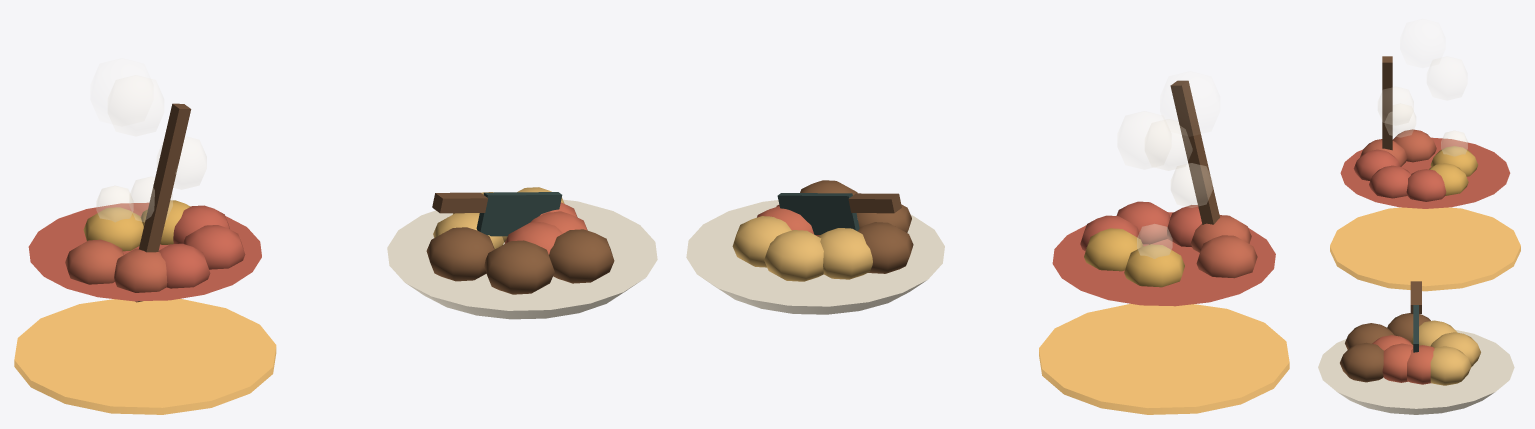
File: bakedApples-cooking.glb
The picture shows the model from 3 angles, left to right: view 1: azimuth 30°, elevation 25°; view 2: azimuth 150°, elevation 25°; view 3: azimuth 270°, elevation 25°; orthographic projection. The views are drawn at different scales.
Parts seen in each view (by area): view 1: Heat, KitchenFinishedDish, Ingredients, Liquid, Steam, Knife, Spoon; view 2: Heat, KitchenFinishedDish, Ingredients, Liquid, Steam, Knife, Spoon; view 3: KitchenFinishedDish, Heat, Ingredients, Liquid, Steam, Spoon, Knife.
Boxes of the visible parts, left/top/right/bottom form: Heat: left=14, top=298, right=276, bottom=414; KitchenFinishedDish: left=387, top=187, right=657, bottom=319; Ingredients: left=65, top=200, right=245, bottom=292; Liquid: left=28, top=202, right=261, bottom=301; Steam: left=96, top=75, right=206, bottom=222; Knife: left=432, top=192, right=562, bottom=236; Spoon: left=135, top=103, right=191, bottom=302; Heat: left=1039, top=303, right=1289, bottom=414; KitchenFinishedDish: left=686, top=180, right=944, bottom=314; Ingredients: left=1080, top=201, right=1257, bottom=287; Liquid: left=1052, top=212, right=1275, bottom=306; Steam: left=1118, top=111, right=1212, bottom=258; Knife: left=777, top=193, right=901, bottom=234; Spoon: left=1170, top=80, right=1219, bottom=224; KitchenFinishedDish: left=1318, top=313, right=1514, bottom=414; Heat: left=1330, top=207, right=1520, bottom=291; Ingredients: left=1353, top=129, right=1477, bottom=201; Liquid: left=1340, top=137, right=1510, bottom=208; Steam: left=1378, top=57, right=1467, bottom=156; Spoon: left=1382, top=56, right=1392, bottom=150; Knife: left=1410, top=281, right=1421, bottom=352.
Bounding box in the file's own units: 2.21 × 1.21 × 0.892.
